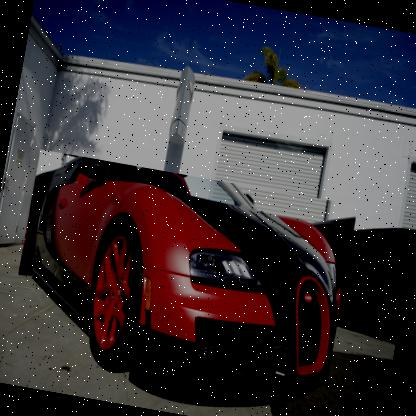Car: (0, 148, 358, 415), (279, 209, 415, 342)
